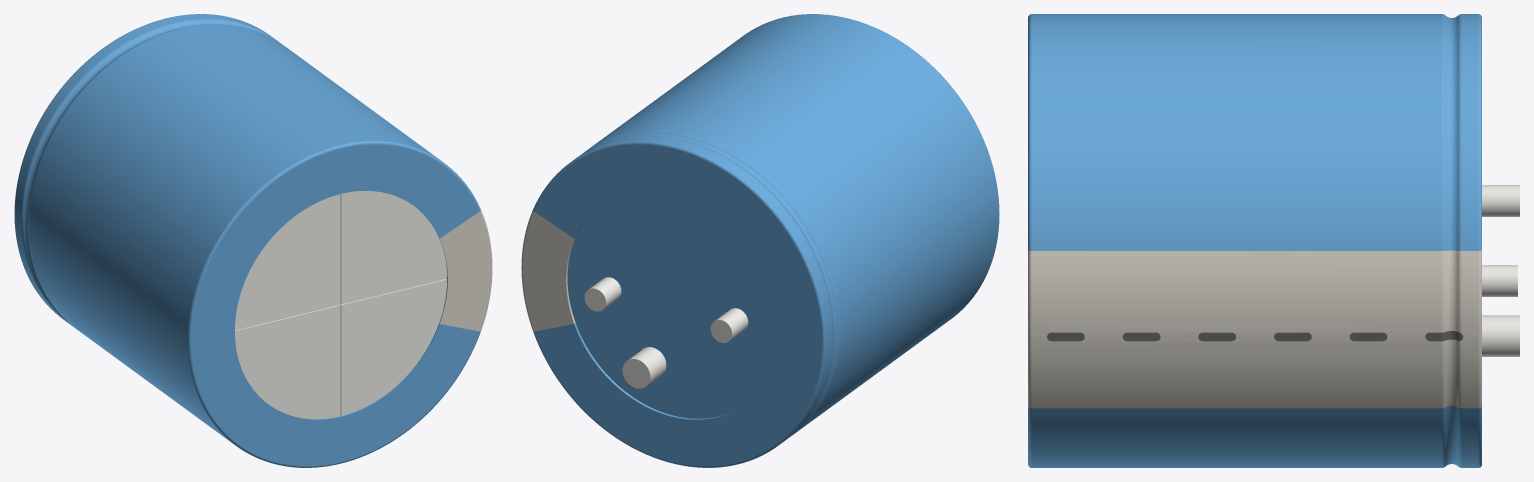
File: CP_Radial_D24.0mm_P10.00mm_3pin_SnapIn.glb
3 renders of one model, left to right at view 1: azimuth 30°, elevation 25°; view 2: azimuth 150°, elevation 25°; view 3: azimuth 270°, elevation 25°, orthographic. The views are drawn at different scales.
Visible parts, largest first — view 1: Shape_IndexedFaceSet.024, Shape_IndexedFaceSet.039, Shape_IndexedFaceSet.046, Shape_IndexedFaceSet.042, Shape_IndexedFaceSet.049, Shape_IndexedFaceSet.052, Shape_IndexedFaceSet.035, Shape_IndexedFaceSet.004, Shape_IndexedFaceSet.034, Shape_IndexedFaceSet.013, Shape_IndexedFaceSet.008, Shape_IndexedFaceSet.019 (+1 smaller); view 2: Shape_IndexedFaceSet.024, Shape_IndexedFaceSet.022, Shape_IndexedFaceSet.016, Shape_IndexedFaceSet.011, Shape_IndexedFaceSet.004, Shape_IndexedFaceSet.010, Shape_IndexedFaceSet.013, Shape_IndexedFaceSet.019, Shape_IndexedFaceSet.031, Shape_IndexedFaceSet.036, Shape_IndexedFaceSet.033, Shape_IndexedFaceSet.008 (+1 smaller); view 3: Shape_IndexedFaceSet.024, Shape_IndexedFaceSet.020, Shape_IndexedFaceSet.004, Shape_IndexedFaceSet.013, Shape_IndexedFaceSet, Shape_IndexedFaceSet.031, Shape_IndexedFaceSet.019, Shape_IndexedFaceSet.033, Shape_IndexedFaceSet.008, Shape_IndexedFaceSet.010, Shape_IndexedFaceSet.034, Shape_IndexedFaceSet.032 (+4 smaller).
Boxes of the visible parts, x1,y1,x2,y2 form: Shape_IndexedFaceSet.024: (29,24,439,442); Shape_IndexedFaceSet.039: (191,144,479,465); Shape_IndexedFaceSet.046: (341,279,446,415); Shape_IndexedFaceSet.042: (341,191,446,303); Shape_IndexedFaceSet.049: (235,305,339,419); Shape_IndexedFaceSet.052: (235,194,339,329); Shape_IndexedFaceSet.035: (440,212,490,331); Shape_IndexedFaceSet.004: (15,14,272,320); Shape_IndexedFaceSet.034: (187,140,480,467); Shape_IndexedFaceSet.013: (23,21,264,313); Shape_IndexedFaceSet.008: (21,19,279,325); Shape_IndexedFaceSet.019: (28,24,268,314); Shape_IndexedFaceSet.024: (588,14,998,431); Shape_IndexedFaceSet.022: (567,191,778,418); Shape_IndexedFaceSet.016: (534,144,822,465); Shape_IndexedFaceSet.011: (523,212,573,331); Shape_IndexedFaceSet.004: (574,136,832,442); Shape_IndexedFaceSet.010: (533,140,826,467); Shape_IndexedFaceSet.013: (595,132,837,425); Shape_IndexedFaceSet.019: (582,130,840,437); Shape_IndexedFaceSet.031: (628,347,666,385); Shape_IndexedFaceSet.036: (622,359,650,388); Shape_IndexedFaceSet.033: (715,308,748,340); Shape_IndexedFaceSet.008: (611,135,833,424); Shape_IndexedFaceSet.024: (1032,14,1441,467); Shape_IndexedFaceSet.020: (1032,251,1441,408); Shape_IndexedFaceSet.004: (1462,14,1478,467); Shape_IndexedFaceSet.013: (1445,16,1457,465); Shape_IndexedFaceSet: (1462,251,1478,408); Shape_IndexedFaceSet.031: (1482,315,1519,356); Shape_IndexedFaceSet.019: (1441,14,1445,467); Shape_IndexedFaceSet.033: (1482,185,1519,216); Shape_IndexedFaceSet.008: (1458,14,1461,467); Shape_IndexedFaceSet.010: (1478,14,1481,467); Shape_IndexedFaceSet.034: (1028,14,1031,467); Shape_IndexedFaceSet.032: (1482,265,1517,296).
Size of the model in its own units: 9.45 by 9.45 by 10.24.
